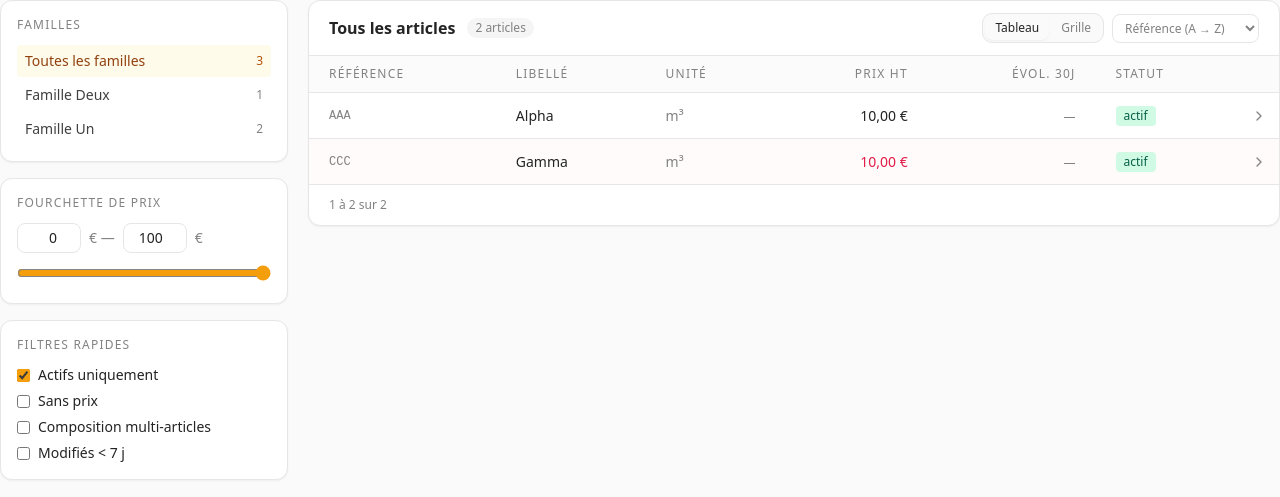
Test: ArticlesExplorer — rail familles › cliquer une famille filtre la liste
Click the button "Famille Deux 1". click: [144, 95]
box: [17,79,271,111]
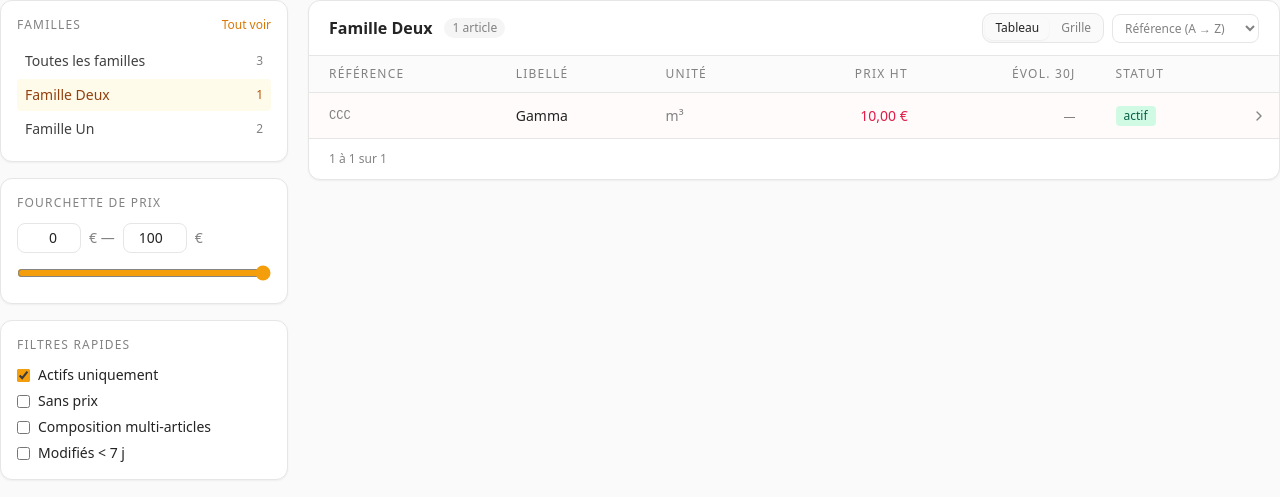
Expected: the text "Gamma" is shown, [516,106,568,124]
Result: the text "Alpha" is gone
